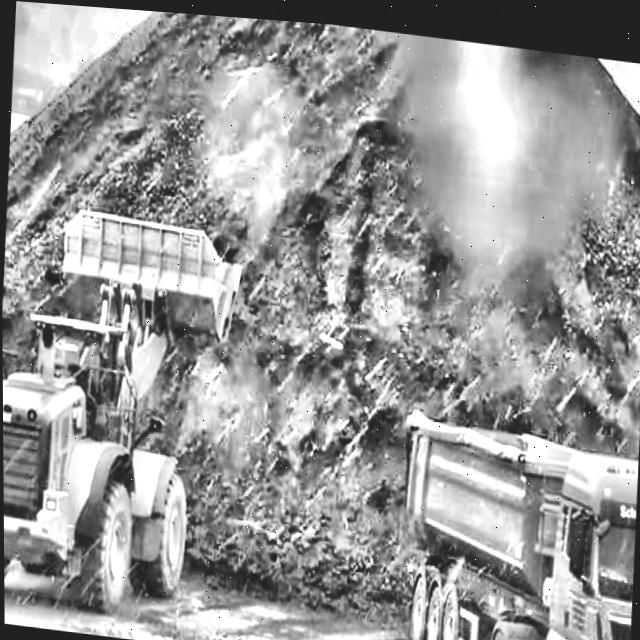buldozerpayloadergrader: (1, 192, 247, 627)
dump_truck: (389, 392, 640, 640)
